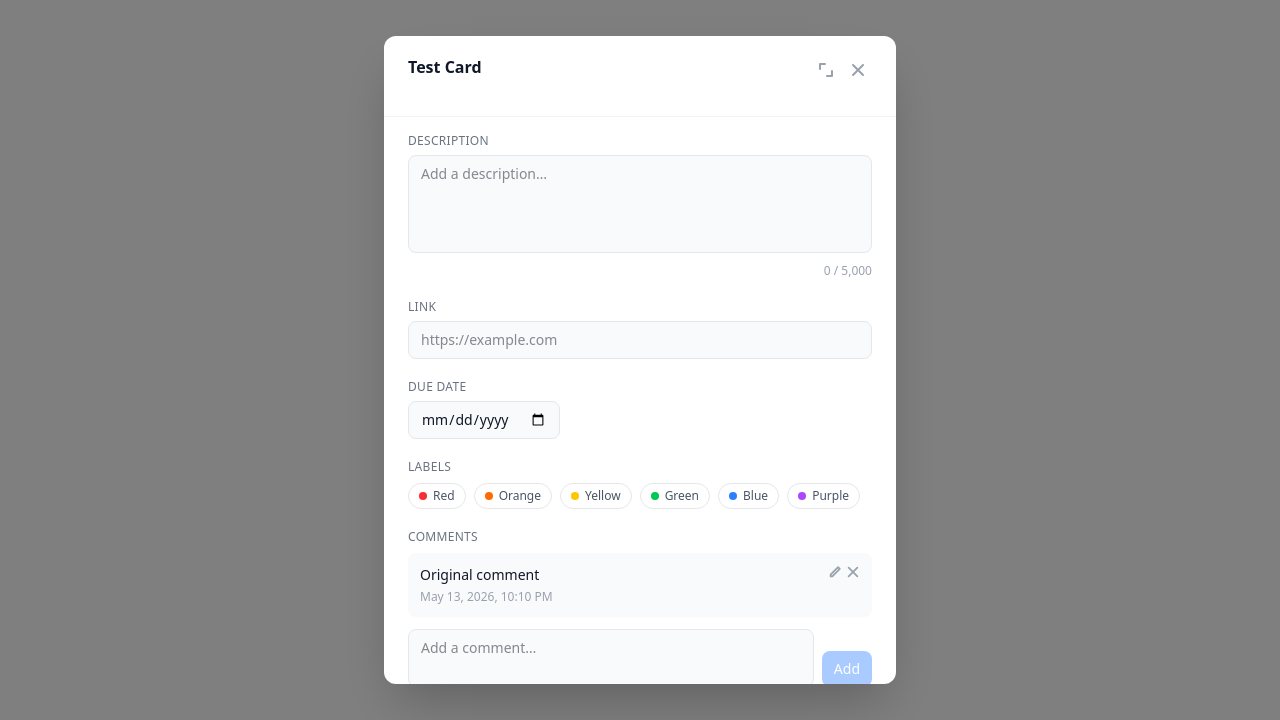
CardModal › comment editing › cancels editing a comment
Click the button named "Edit comment" at (835, 572), box [828, 565, 842, 579]
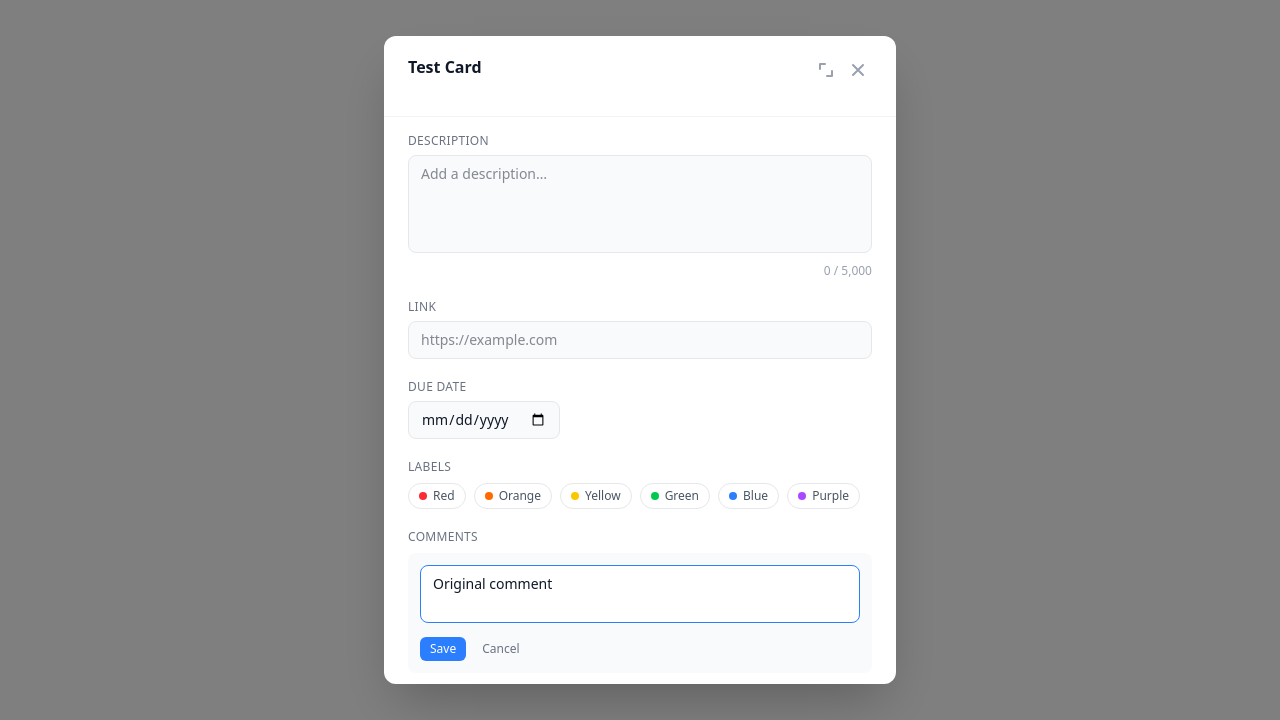
Click the button "Cancel" at (501, 649), box [474, 637, 528, 661]
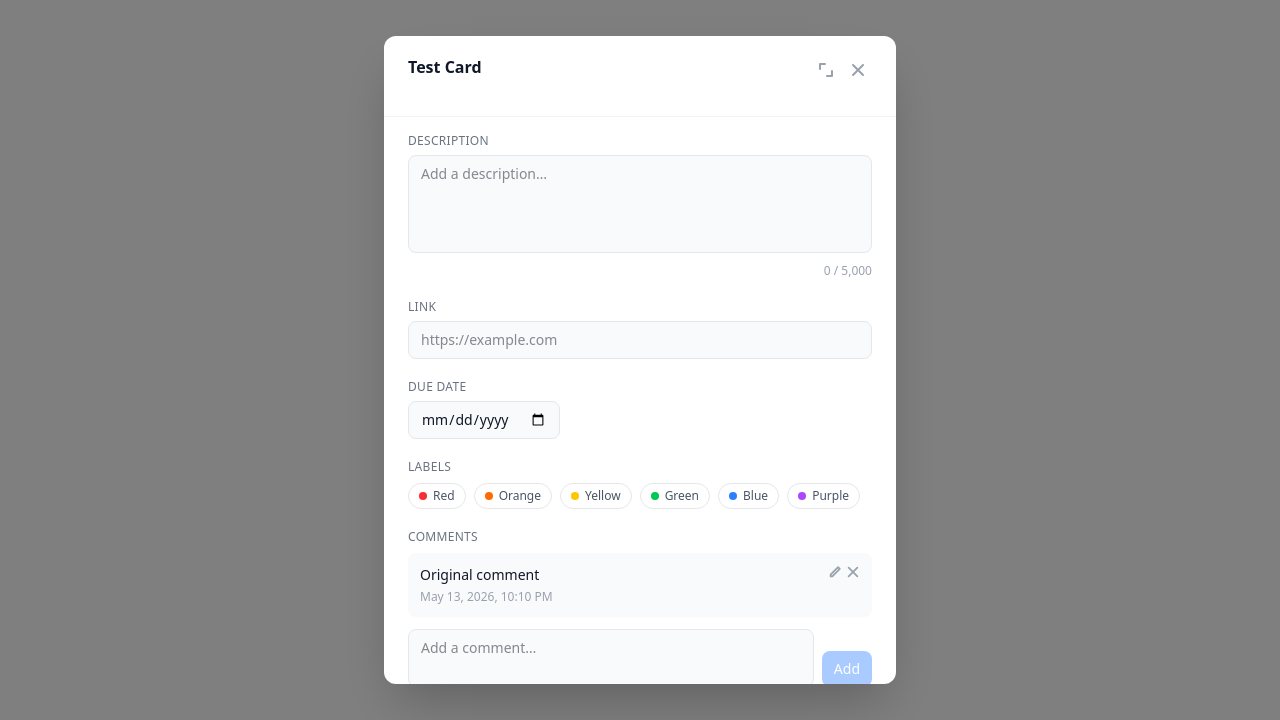
Now the text "Original comment" is shown, box [420, 565, 539, 584]
